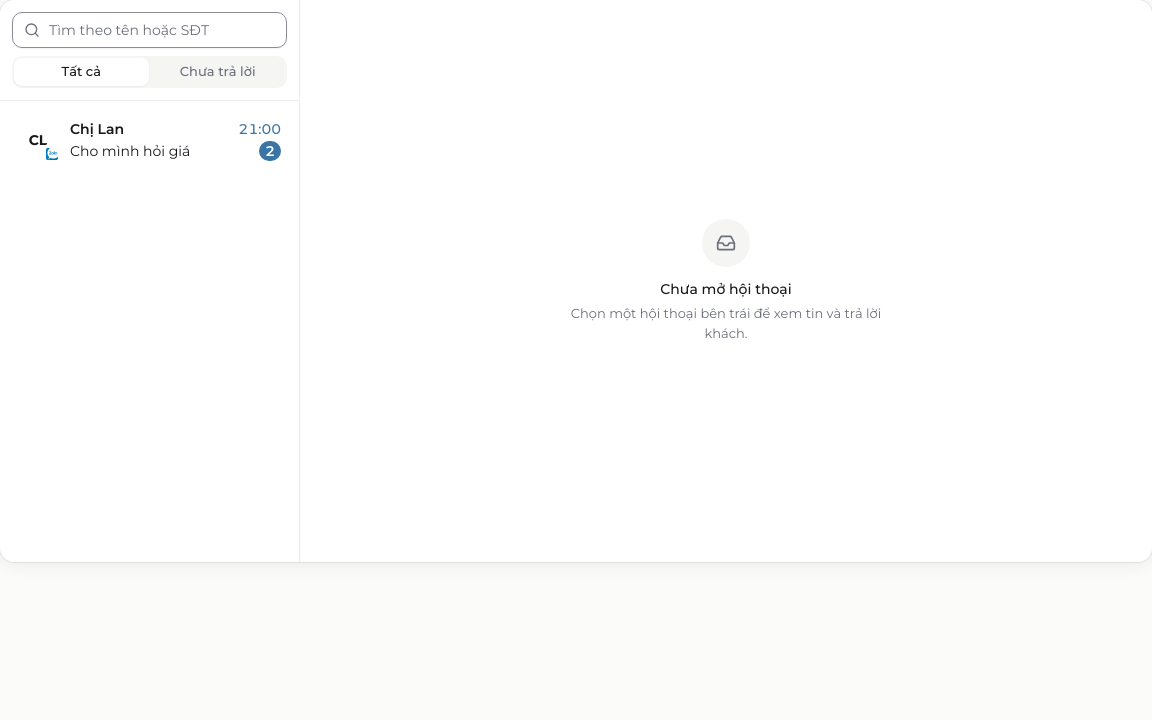
Test: <ZaloOaInbox> › quá 48h: khoá ô nhập và nhắc dùng ZNS
The width and height of the screenshot is (1152, 720).
Click the text "Chị Lan" at (97,129), box 70,119 -> 124,139
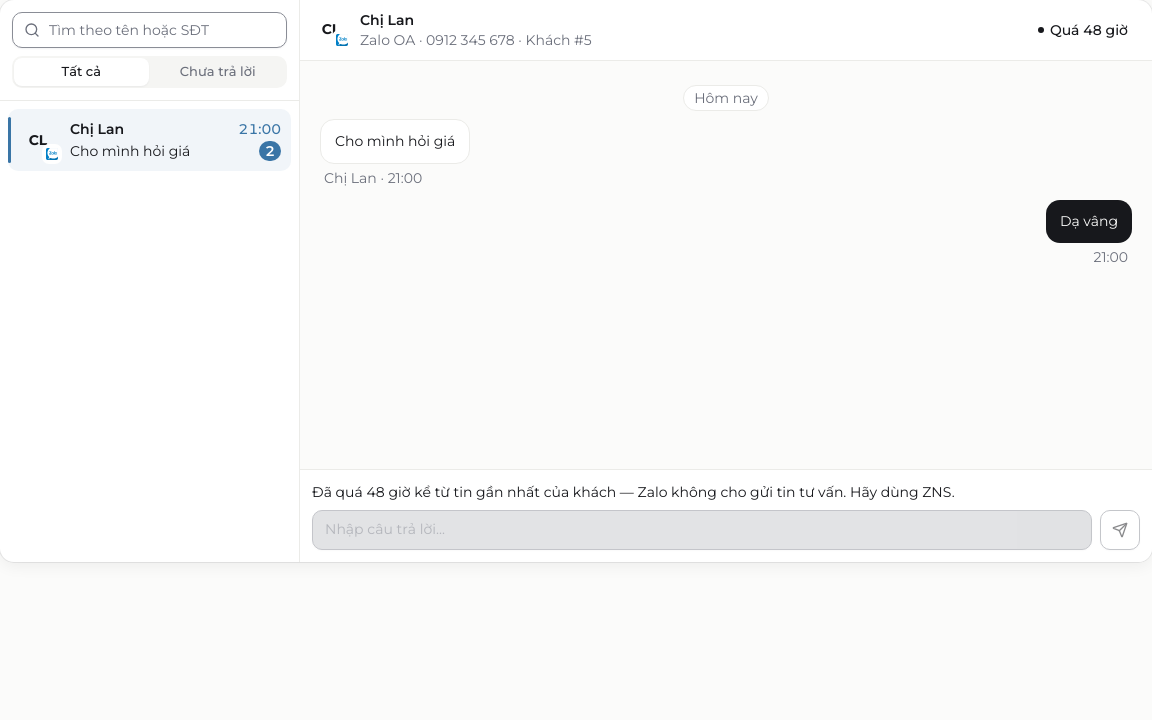
expect the text "quá 48 giờ" is shown: met, box 312,483 -> 955,501
expect the text box with placeholder "Nhập câu trả lời..." is disabled: met, box 312,510 -> 1092,550
